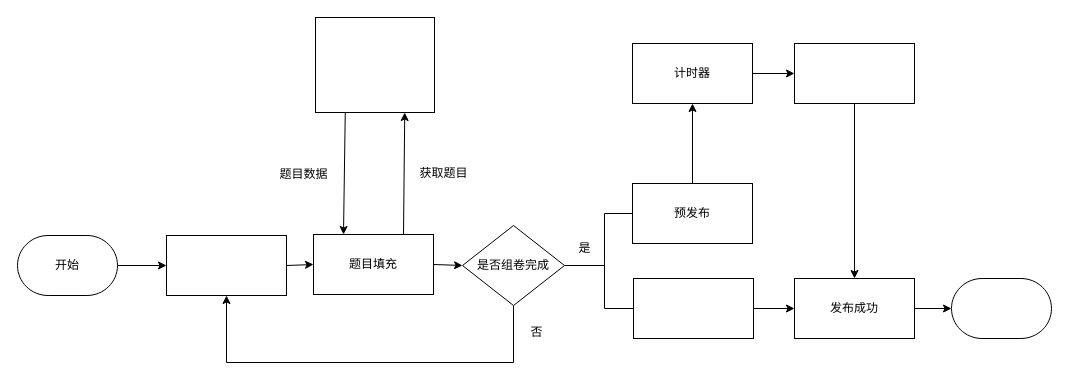
The diagram is 1069 pixels wide and 388 high, and some of its shapes have lost their labels. The box of each missing label's shape, as (x1, y1, x2, y2) in pixels:
后端系统: (314, 16, 434, 112)
填写试卷内容教师: (166, 234, 286, 296)
立即发布: (632, 278, 754, 338)
结束: (950, 278, 1052, 338)
计时结束: (794, 42, 914, 104)
